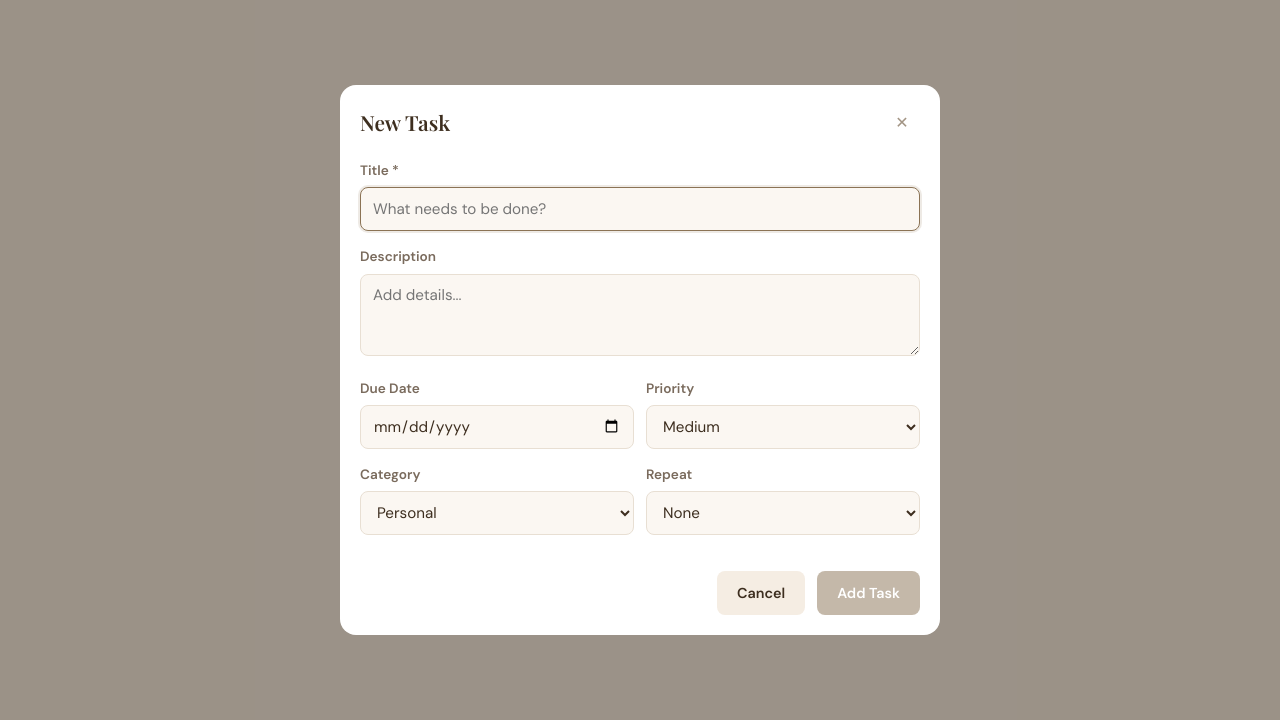
Test: TaskForm › new task (no task prop) › enables submit button when title has text
Step 1. Type "New task" into the field labelled "Title *" → x=640, y=209, box left=360, top=187, right=920, bottom=231
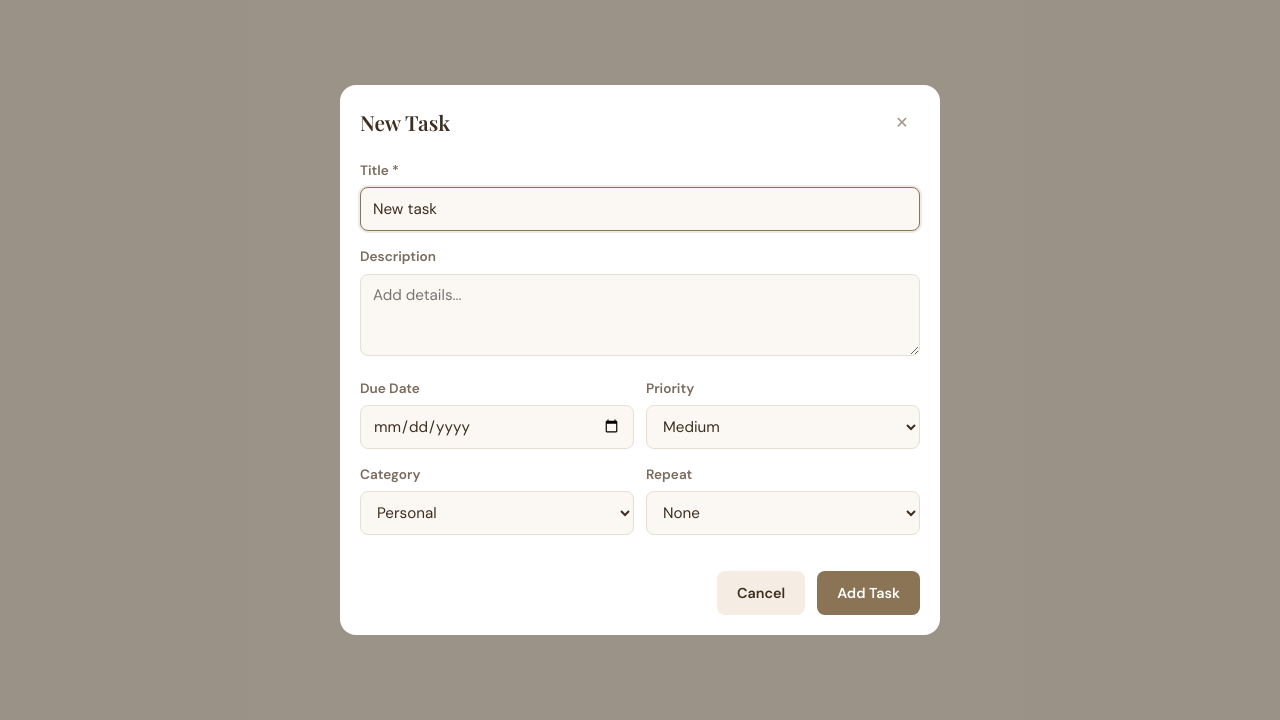
expect the button "Add Task" is enabled: met, box left=817, top=571, right=920, bottom=615
